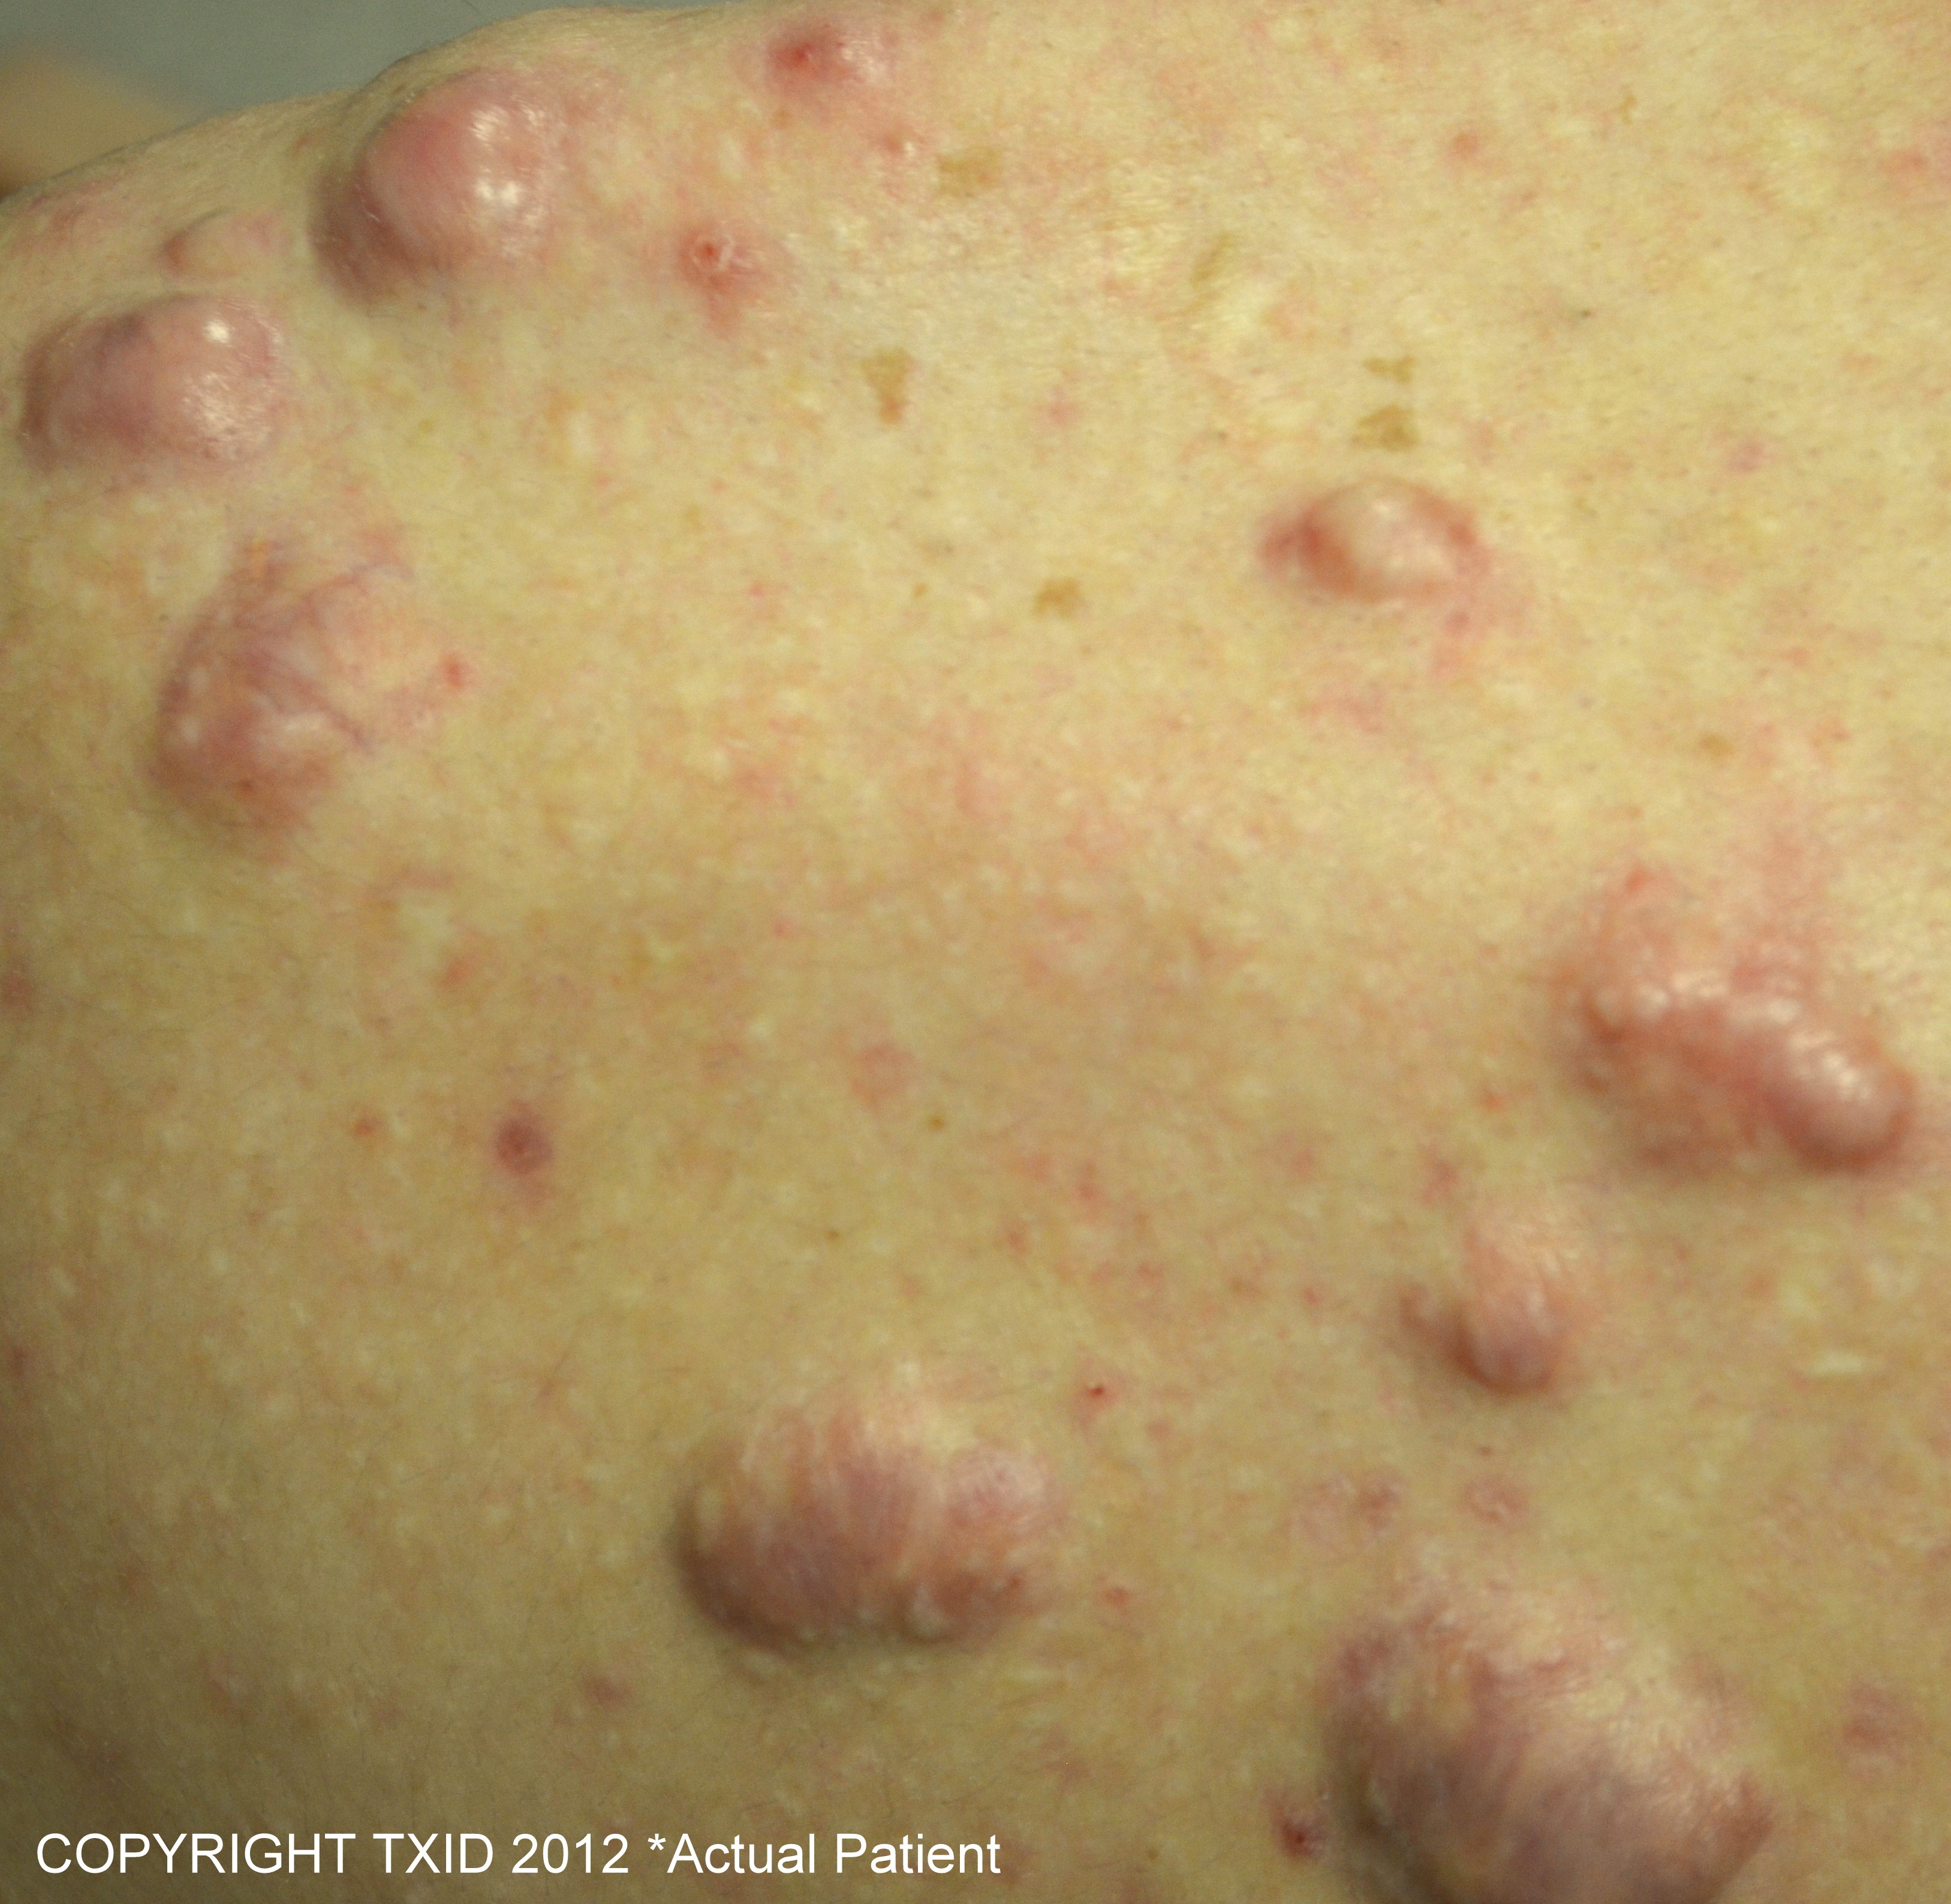Keloids: (656, 1236, 1801, 1904), (12, 61, 584, 467), (1592, 915, 1914, 1168)
